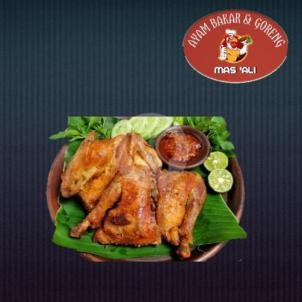ayam_goreng: (156, 167, 208, 262)
